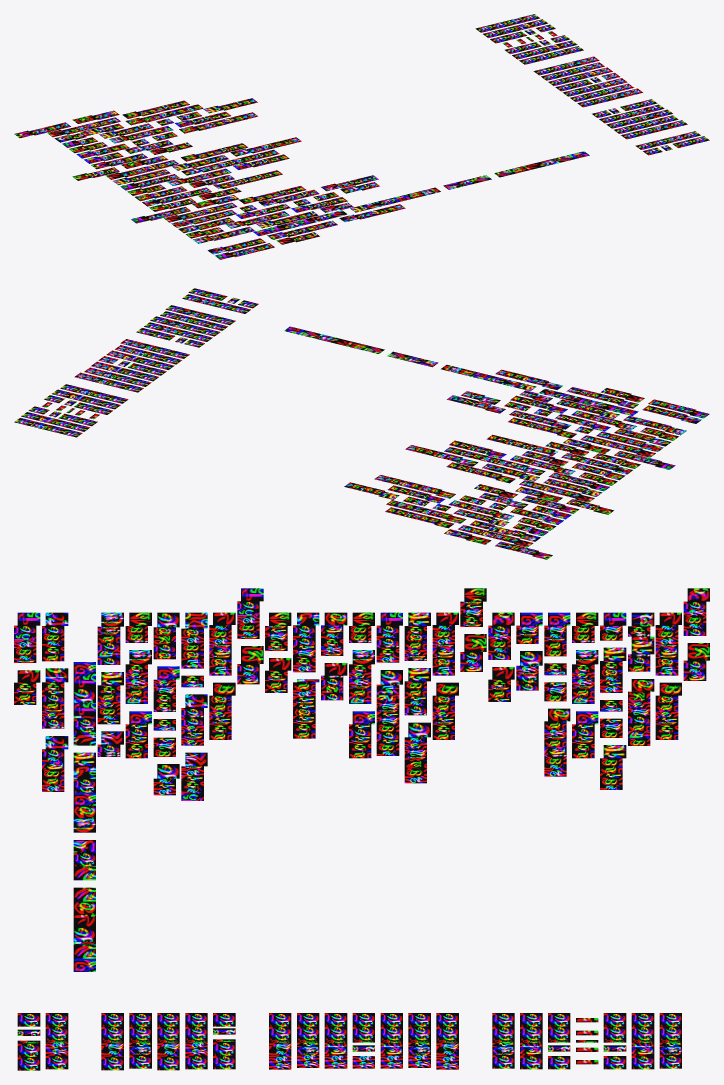
The model's file is ProHolo_Text_2.FBX.
3 views of the same model, one above another, from view 1: azimuth 30°, elevation 25°; view 2: azimuth 150°, elevation 25°; view 3: azimuth 270°, elevation 25° (orthographic). The views are drawn at different scales.
Visible parts, largest first — view 1: ProHolo_Text_2; view 2: ProHolo_Text_2; view 3: ProHolo_Text_2.
Part boxes in pixels (box(x1,y1,x2,y2)): ProHolo_Text_2: box(14, 14, 709, 259); ProHolo_Text_2: box(14, 288, 709, 559); ProHolo_Text_2: box(14, 588, 709, 1070).
Size of the model in its own units: 0.3219 by 5.56e-17 by 0.1964.
